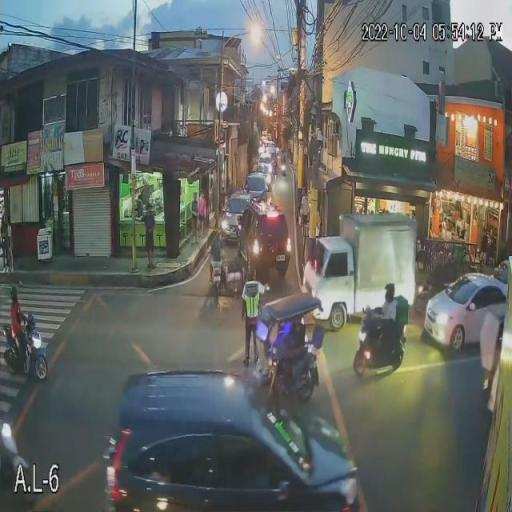helmet: (9, 284, 22, 304), (384, 282, 396, 297)
motorcycle: (353, 308, 410, 378), (3, 311, 53, 381), (209, 255, 226, 298)
rider: (375, 282, 408, 358), (8, 290, 31, 360), (209, 234, 228, 278)
